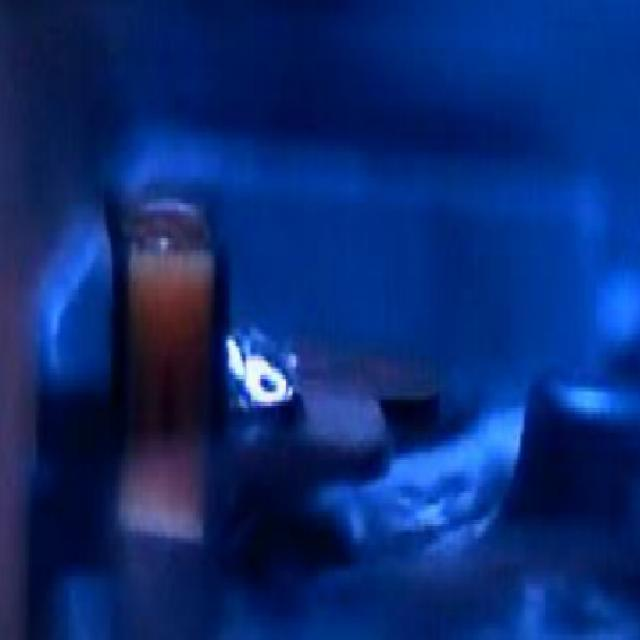Component: (93, 173, 236, 438)
Solder: (216, 294, 315, 435)
